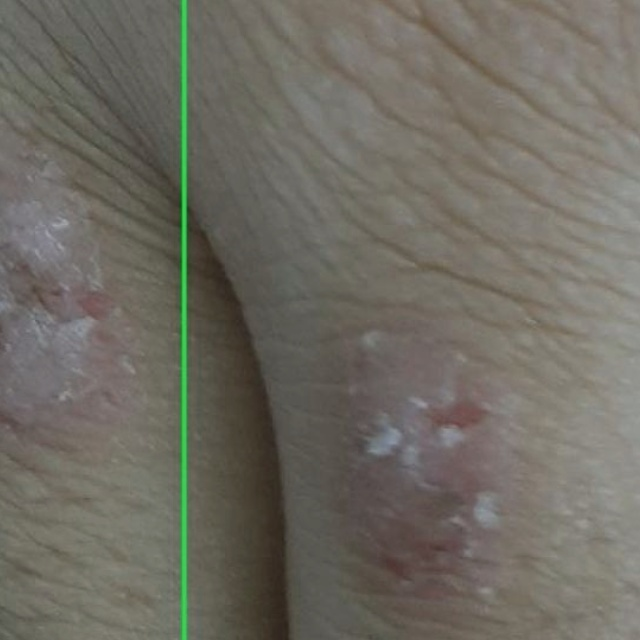Contact Dermatitis: (184, 0, 639, 639)
